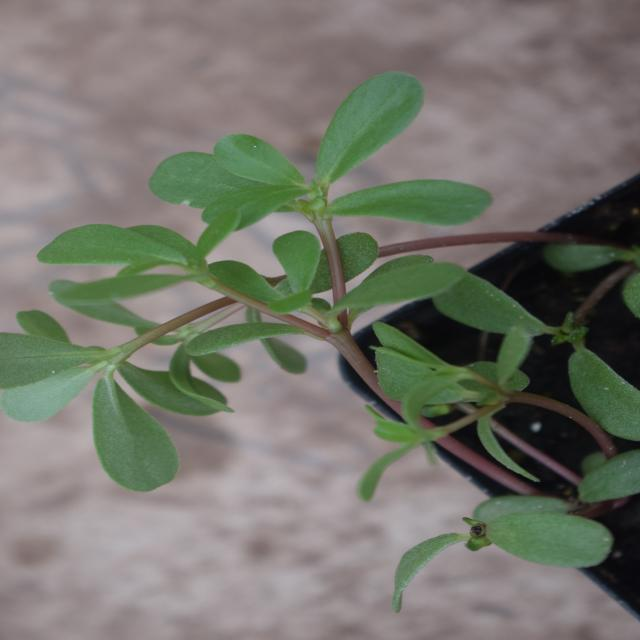purslane: (149, 10, 587, 515)
